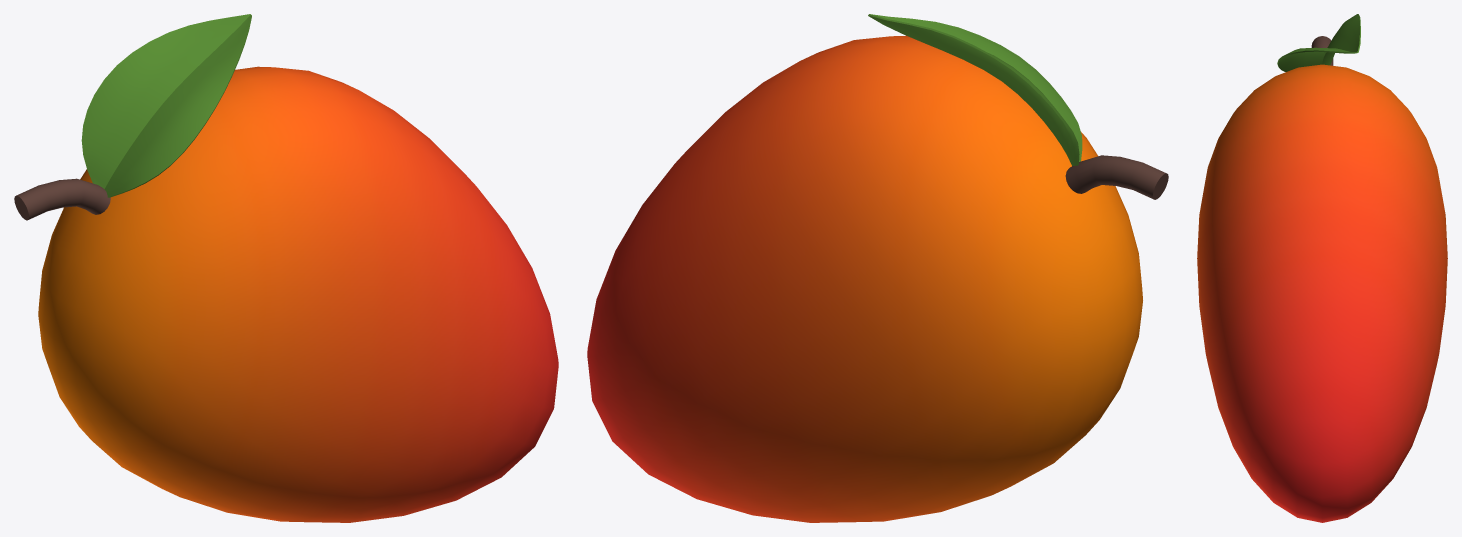
The model's file is mango.gltf.
3 renders of one model, left to right at view 1: azimuth 30°, elevation 25°; view 2: azimuth 150°, elevation 25°; view 3: azimuth 270°, elevation 25°, orthographic. The views are drawn at different scales.
Visible parts, largest first — view 1: Cube.289; view 2: Cube.289; view 3: Cube.289.
Part boxes in pixels (bbox=[...]): Cube.289: bbox=[14, 14, 558, 522]; Cube.289: bbox=[587, 14, 1168, 522]; Cube.289: bbox=[1197, 14, 1447, 522].
Size of the model in its own units: 2.19 by 2 by 1.13.
1 material, 1 textured.
